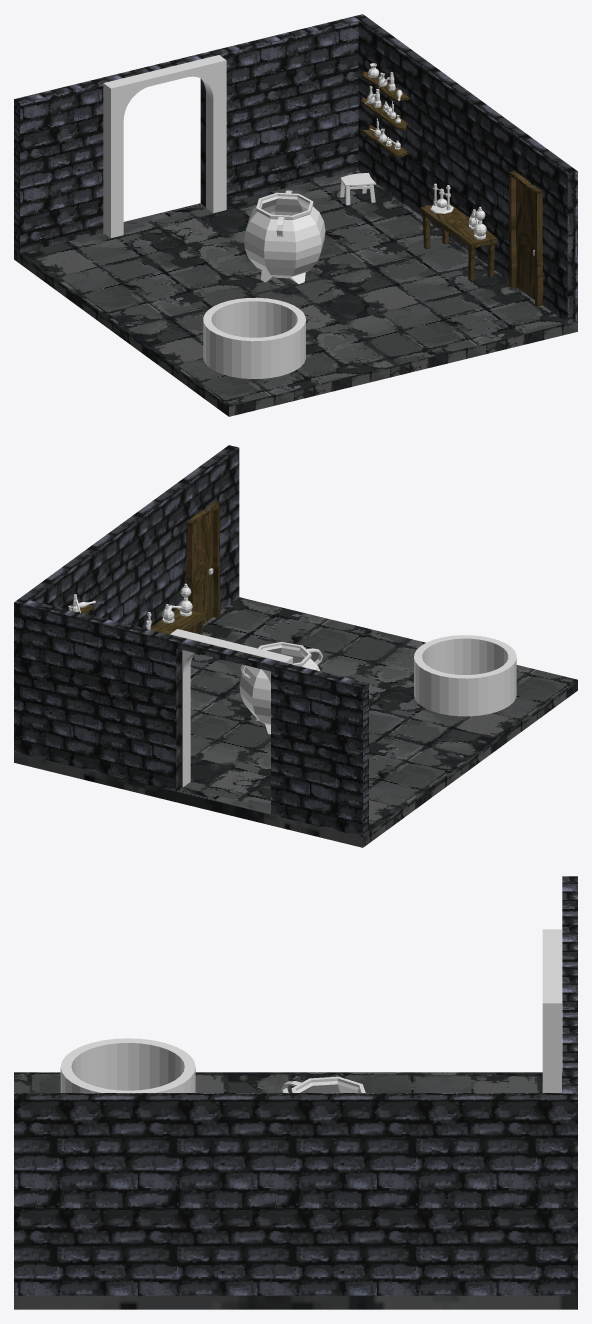
The model's file is Level-2.fbx.
3 renders of one model, top to bottom at view 1: azimuth 30°, elevation 25°; view 2: azimuth 150°, elevation 25°; view 3: azimuth 270°, elevation 25°, orthographic. The views are drawn at different scales.
Parts seen in each view (by area): view 1: Layout, Arc-To-Room, Well, Cauldron, Table, Door, Door-Frame, Stool; view 2: Layout, Well, Cauldron, Arc-To-Room, Door, Door-Frame, Table, Flask_Set1; view 3: Layout, Well, Arc-To-Room, Cauldron.
Part boxes in pixels (<box>): Layout: <box>14,14,577,416</box>; Arc-To-Room: <box>103,55,226,237</box>; Well: <box>203,297,305,378</box>; Cauldron: <box>244,190,325,284</box>; Table: <box>420,201,497,281</box>; Door: <box>515,180,535,300</box>; Door-Frame: <box>509,171,543,306</box>; Stool: <box>339,173,376,205</box>; Layout: <box>14,445,577,847</box>; Well: <box>414,635,516,716</box>; Cauldron: <box>239,642,322,734</box>; Arc-To-Room: <box>170,629,292,786</box>; Door: <box>194,511,213,630</box>; Door-Frame: <box>186,501,220,632</box>; Table: <box>150,608,206,655</box>; Flask_Set1: <box>162,583,192,623</box>; Layout: <box>14,876,577,1309</box>; Well: <box>60,1038,195,1092</box>; Arc-To-Room: <box>542,929,561,1092</box>; Cauldron: <box>281,1076,365,1092</box>.
Size of the model in its own units: 1015 by 446 by 1083.
